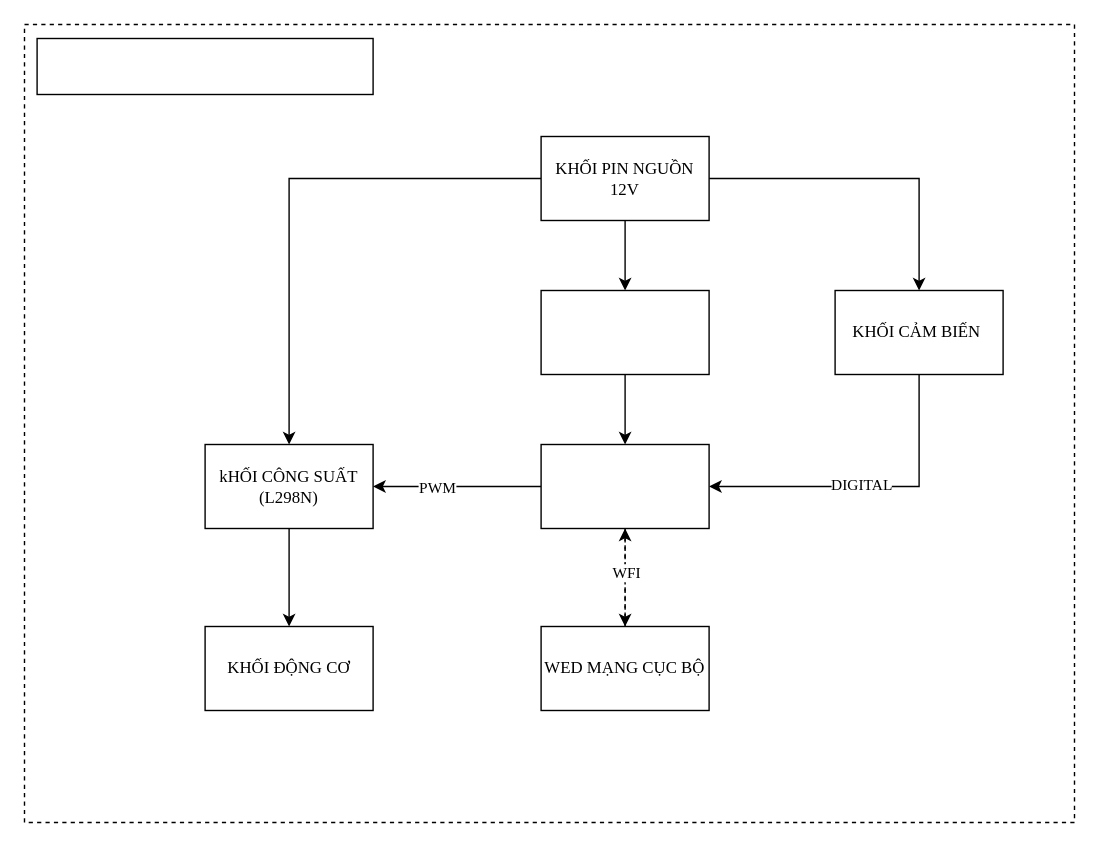
This 1099x847 diagram has some shape labels left out. Here are the shapes that lost their labels. From the top down, the centre of each, then its label:
At pixel 204 65: "SƠ ĐỒ KHỐI HỆ THỐNG".
At pixel 624 331: "HẠ ÁP 5V (LM2596)".
At pixel 624 485: "KHỐI VI ĐIỀU KHIỂN ̣̣̣̣̣̣(ESP32)".
